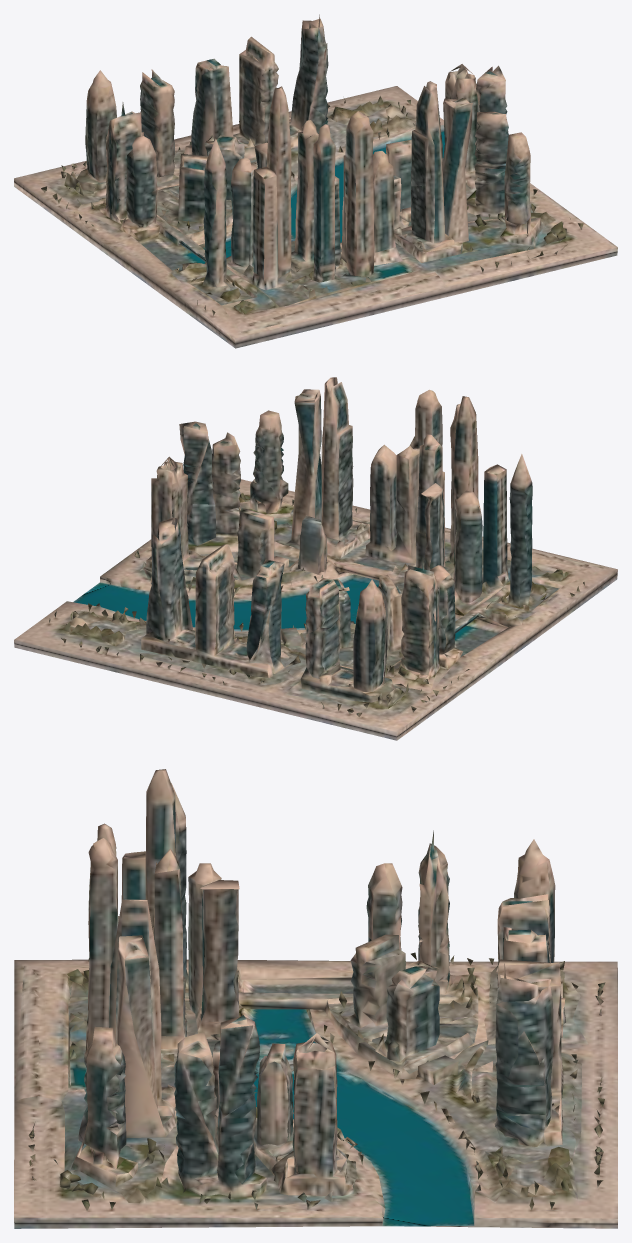
Rendered from dubai_business_bay_sand_xfar.glb.
The picture shows the model from 3 angles, top to bottom: view 1: azimuth 30°, elevation 25°; view 2: azimuth 150°, elevation 25°; view 3: azimuth 270°, elevation 25°; orthographic projection. The views are drawn at different scales.
Parts seen in each view (by area): view 1: dubai_business_bay_sand; view 2: dubai_business_bay_sand; view 3: dubai_business_bay_sand.
Part boxes in pixels (bbox=[...]): dubai_business_bay_sand: bbox=[14, 14, 617, 348]; dubai_business_bay_sand: bbox=[14, 377, 617, 740]; dubai_business_bay_sand: bbox=[14, 769, 617, 1228].
Bounding box in the file's own units: 1.9 × 0.9407 × 1.9.
Materials: 1 (1 with a texture image).
